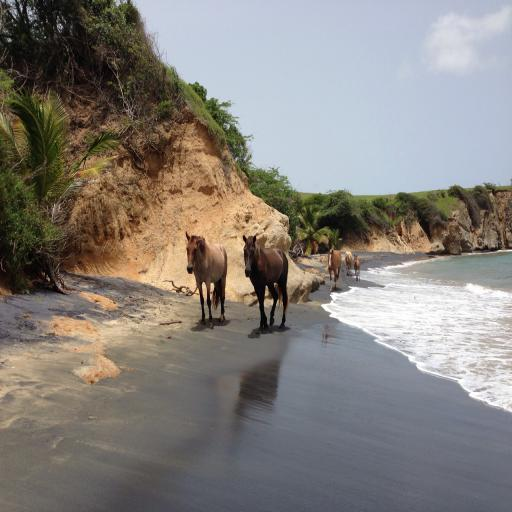Horse: (241, 234, 289, 335), (186, 233, 228, 331), (327, 247, 341, 292), (344, 251, 353, 278), (352, 255, 360, 281)
